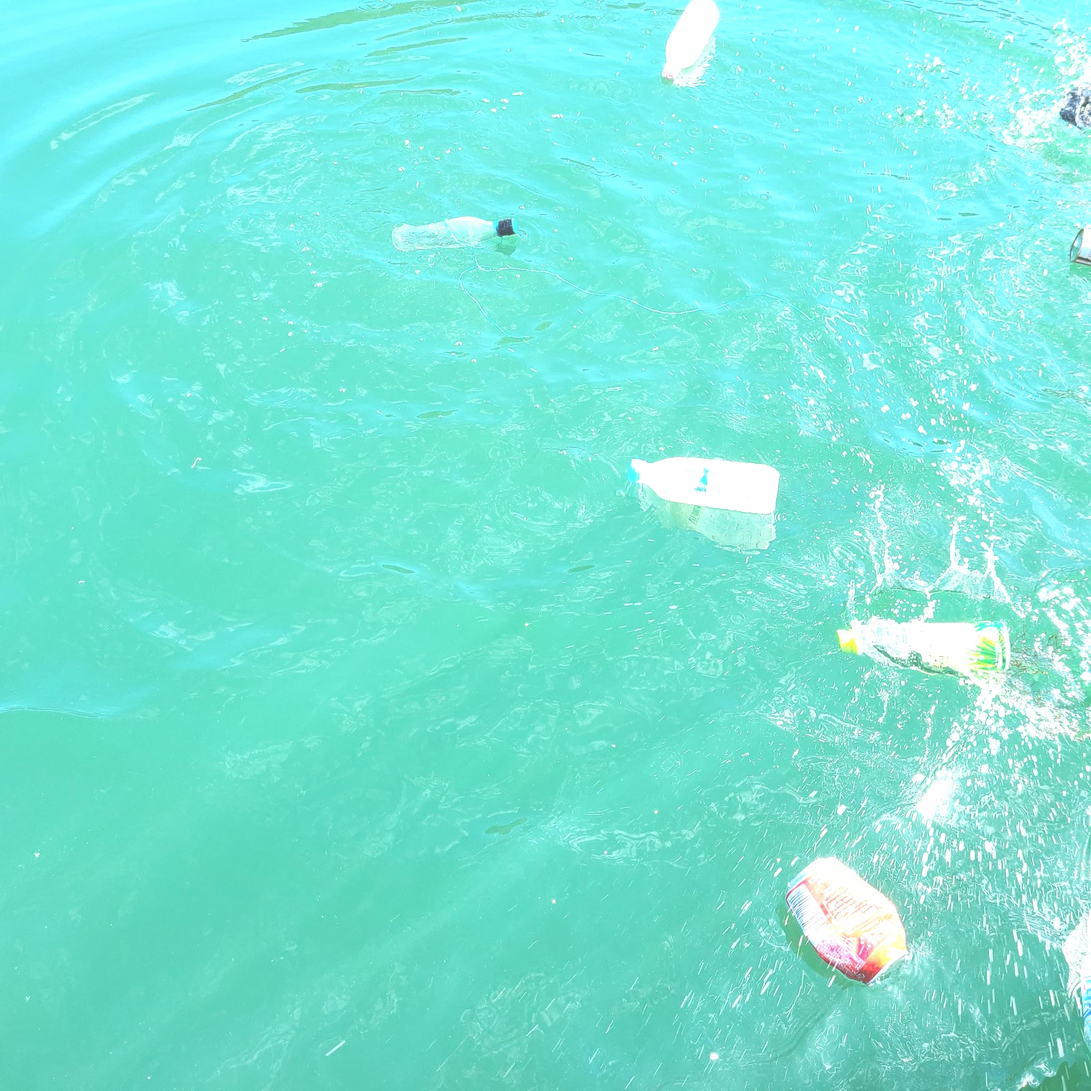sampah_terapung: (785, 857, 909, 987), (836, 621, 1011, 675), (628, 457, 780, 515), (661, 1, 720, 81), (392, 217, 519, 251), (1070, 229, 1091, 267)
